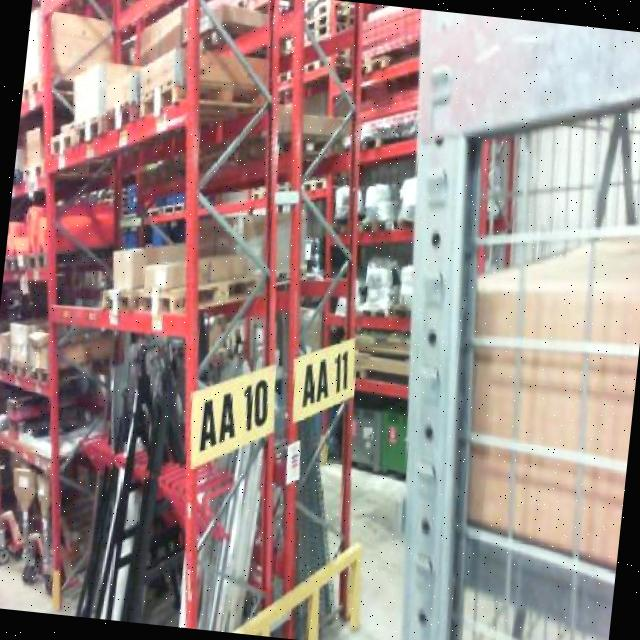pallet: (54, 105, 114, 152), (132, 80, 197, 119), (130, 282, 188, 320), (94, 282, 150, 316), (94, 97, 144, 134)
